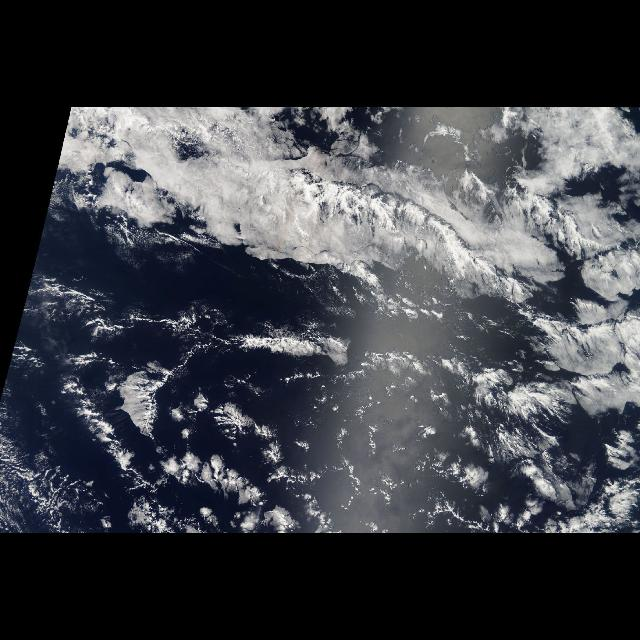Fish: (131, 134, 515, 312)
